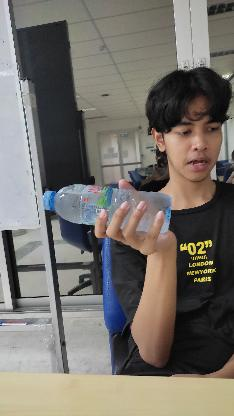Plastic Bottle: (40, 180, 174, 244)
